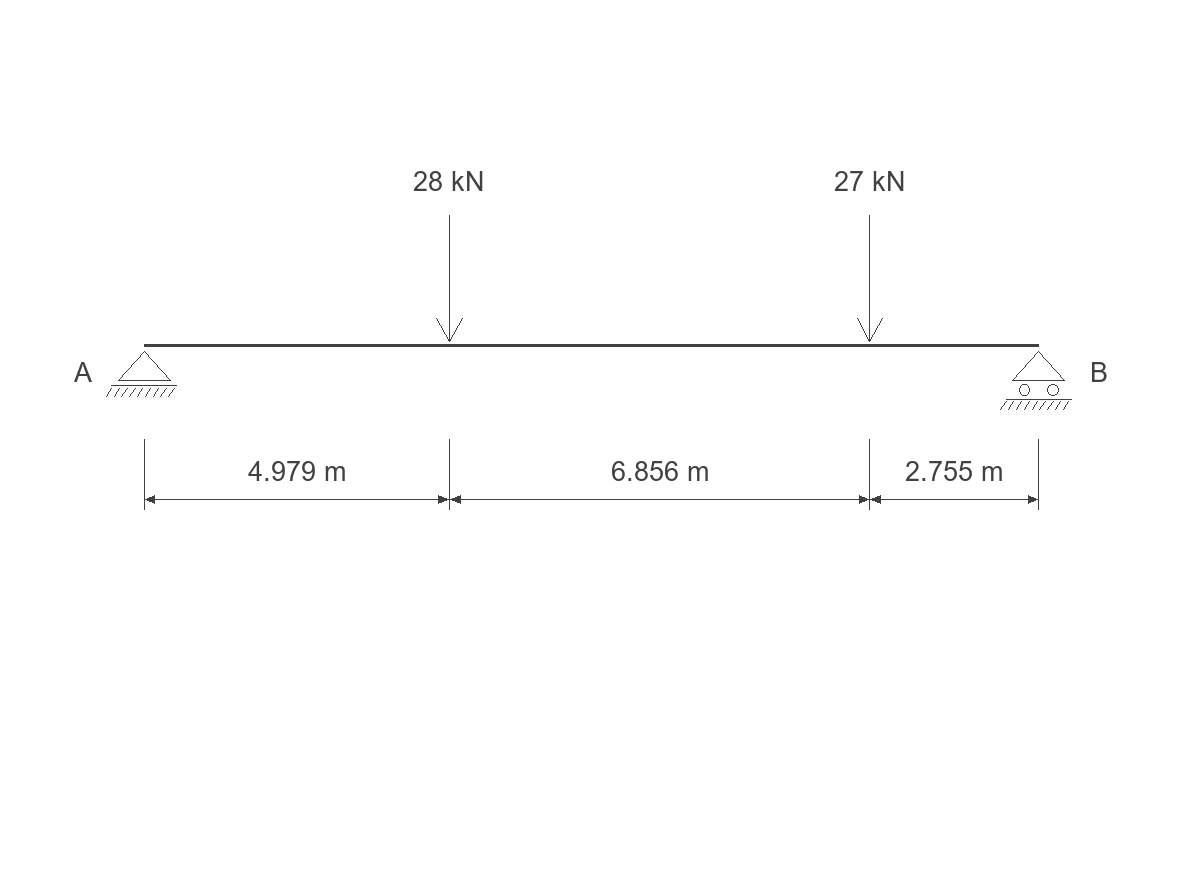pin_support: (106, 351, 177, 397)
point_load: (436, 215, 463, 342), (857, 215, 883, 342)
roller_support: (1000, 351, 1072, 410)
